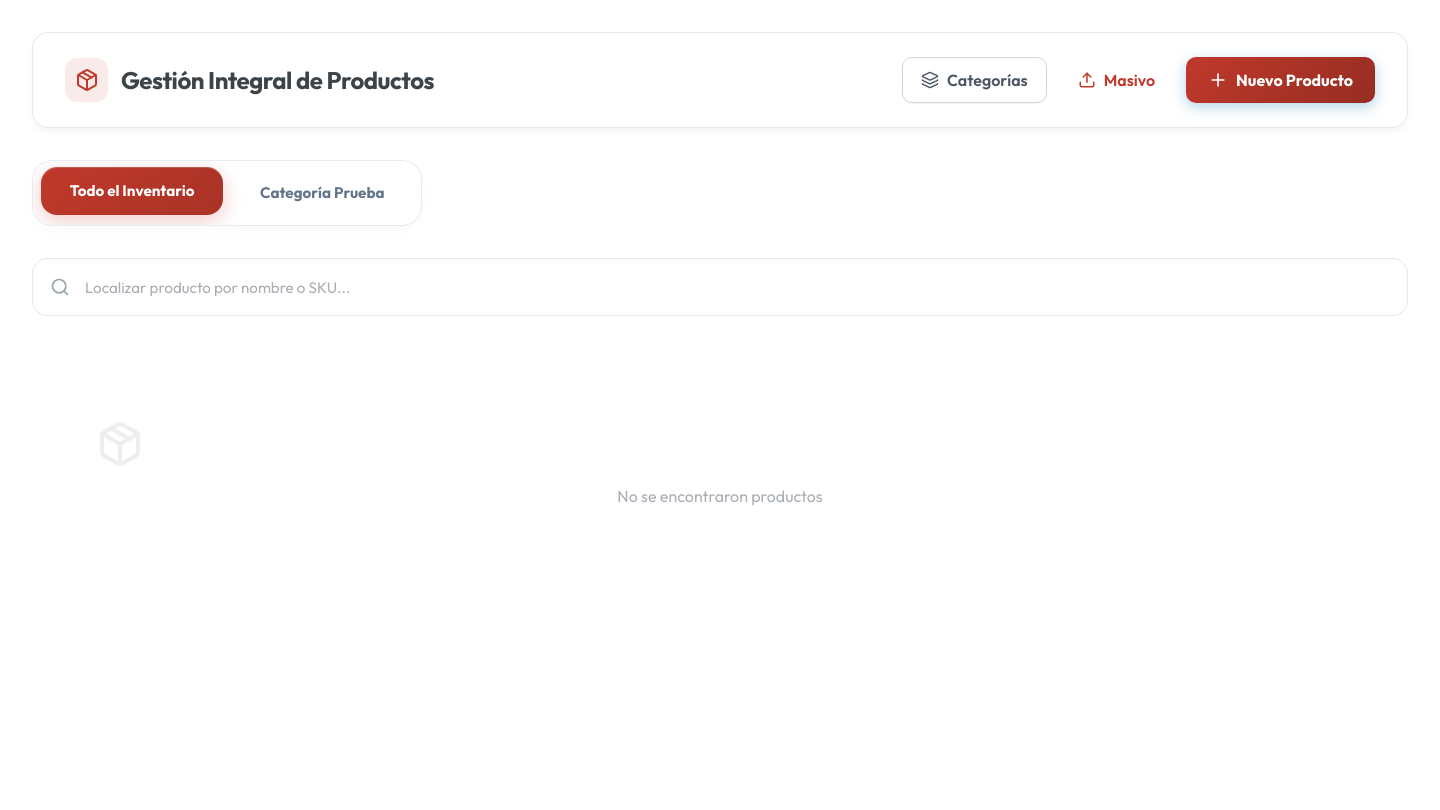
Scenario: Matriz de Casos de Prueba - Módulo Inventario › CP-002: Validar que el Código Interno sea obligatorio
Click the button "Nuevo Producto" at x=1280, y=80, box left=1186, top=57, right=1375, bottom=103
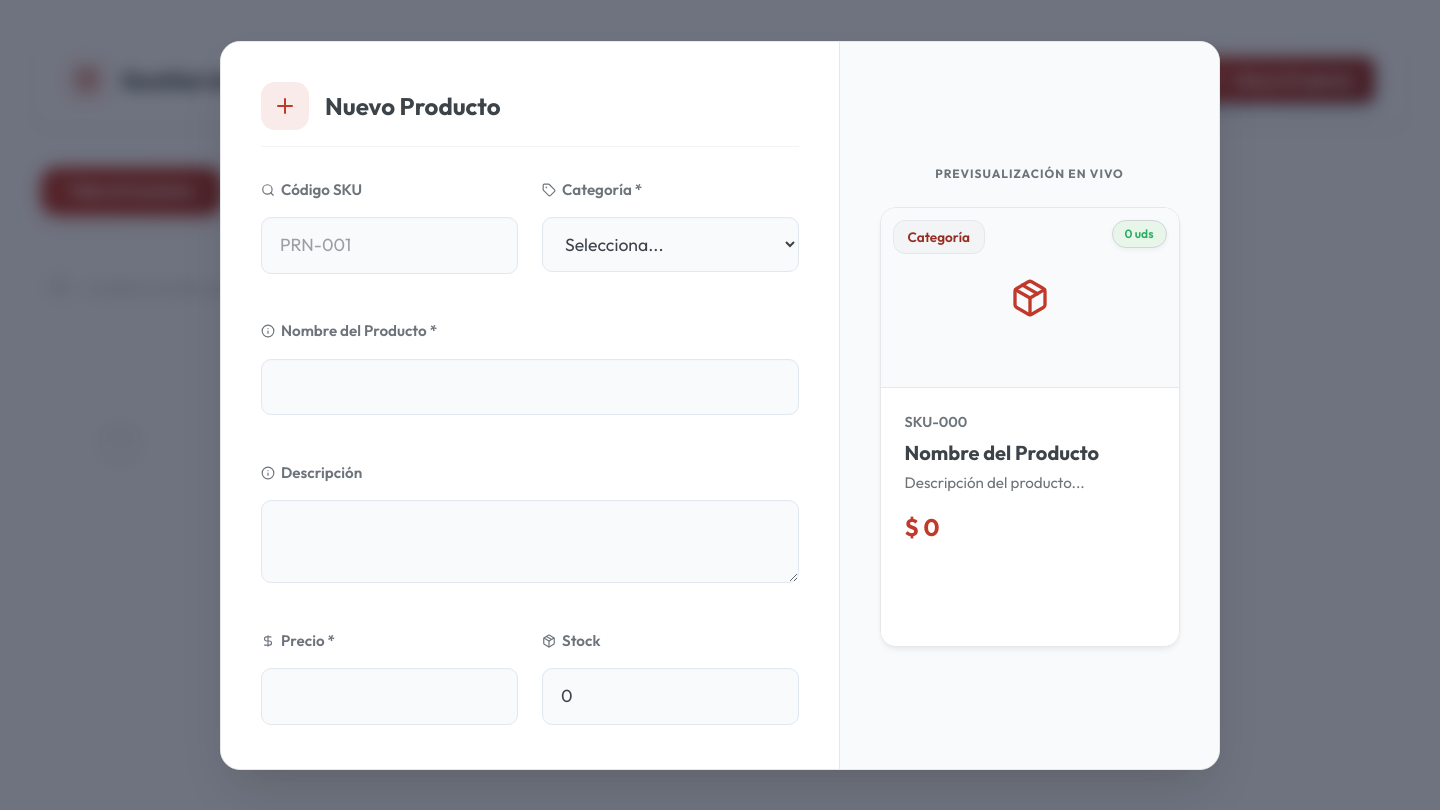
Select "Categoría Prueba" in the dropdown named "id_categoria" at x=670, y=245, box left=542, top=217, right=799, bottom=272
Type "Producto Válido" into the field named "nombre_producto" at x=530, y=387, box left=261, top=359, right=799, bottom=415
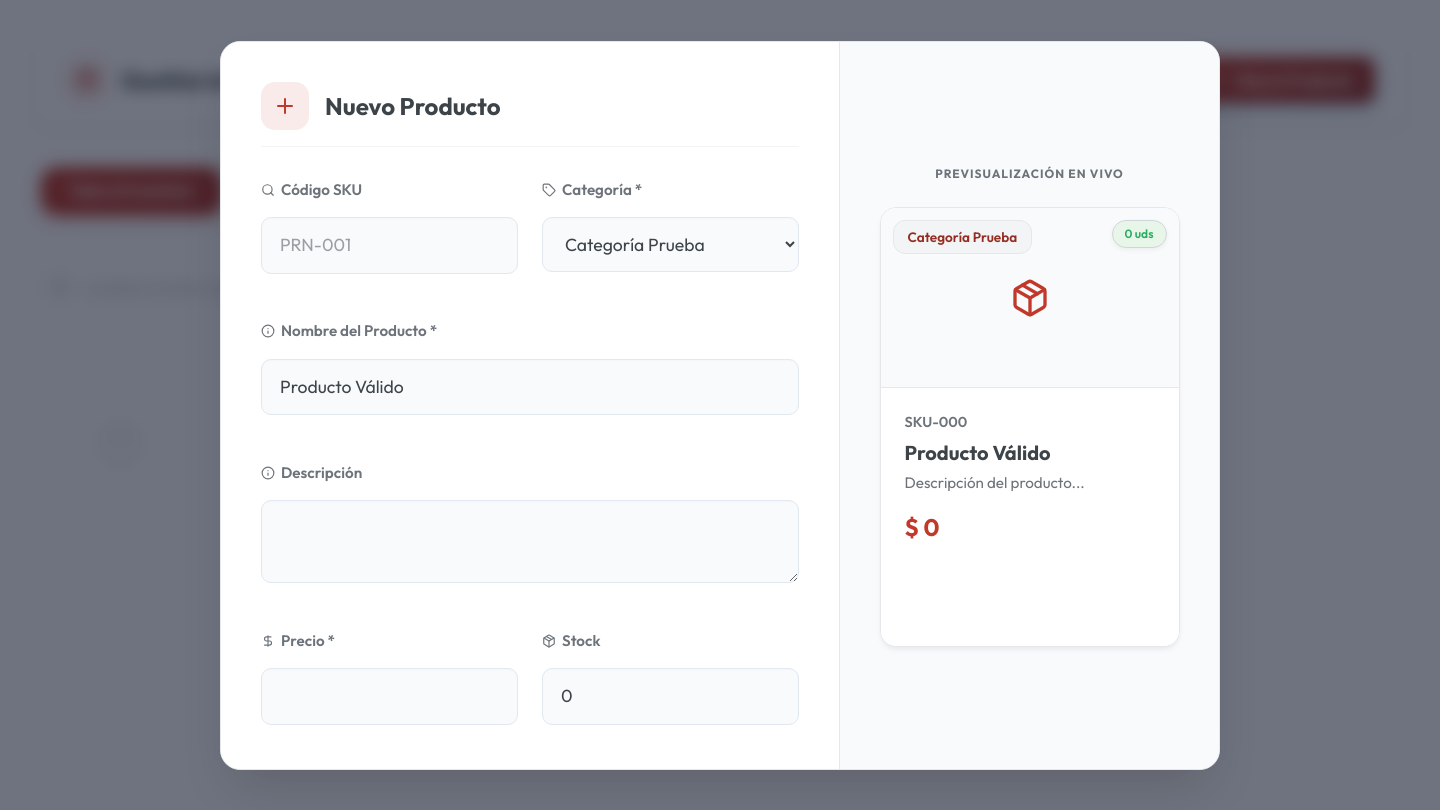
Type "Descripción válida" into the text box named "descripcion" at x=530, y=542, box left=261, top=500, right=799, bottom=583
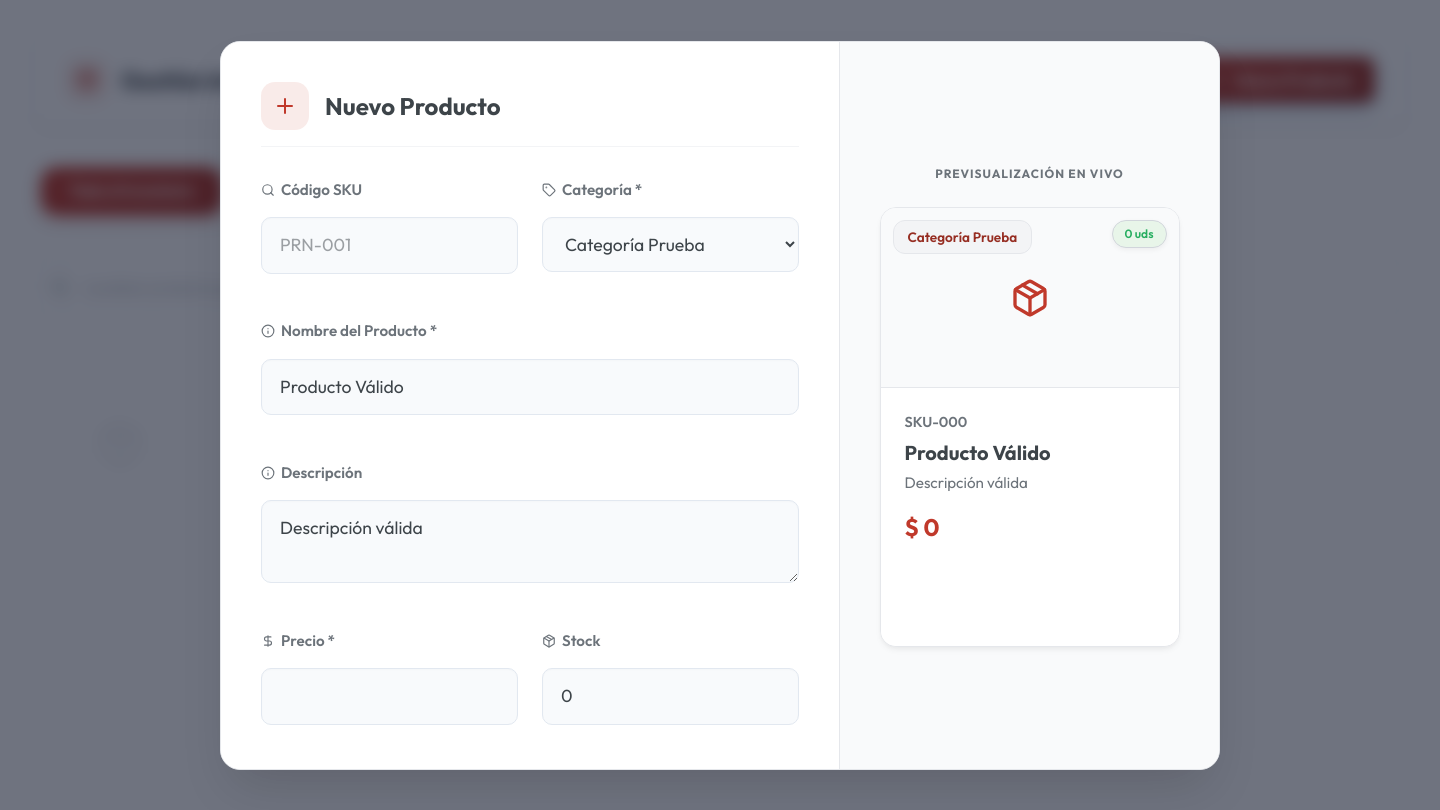
Type "1000" into the number field named "precio" below "Precio *" at x=390, y=697, box left=261, top=668, right=518, bottom=725
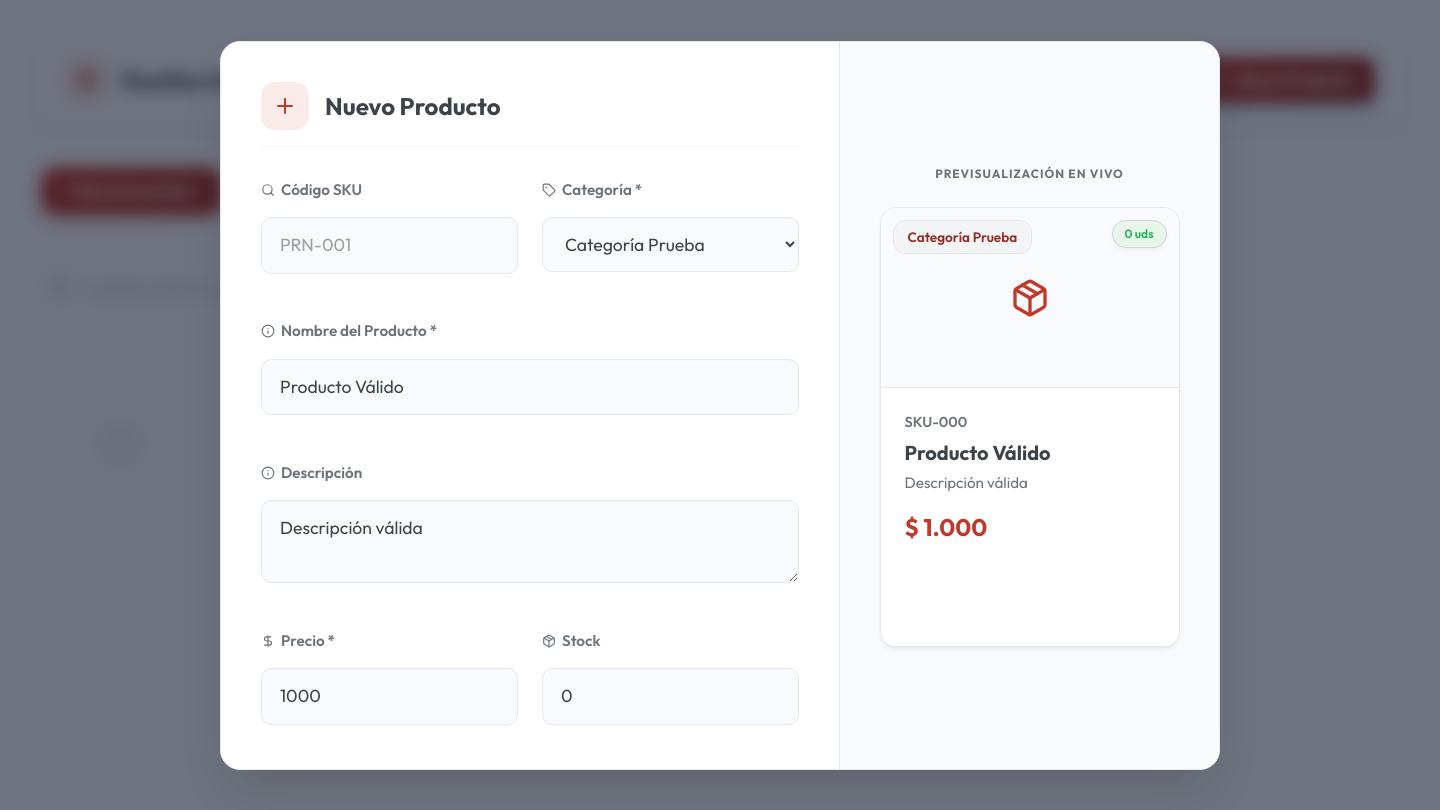
Replace the text in the number field named "stock" below "Stock" with "5" at x=670, y=697, box left=542, top=668, right=799, bottom=725
(page scrolled)
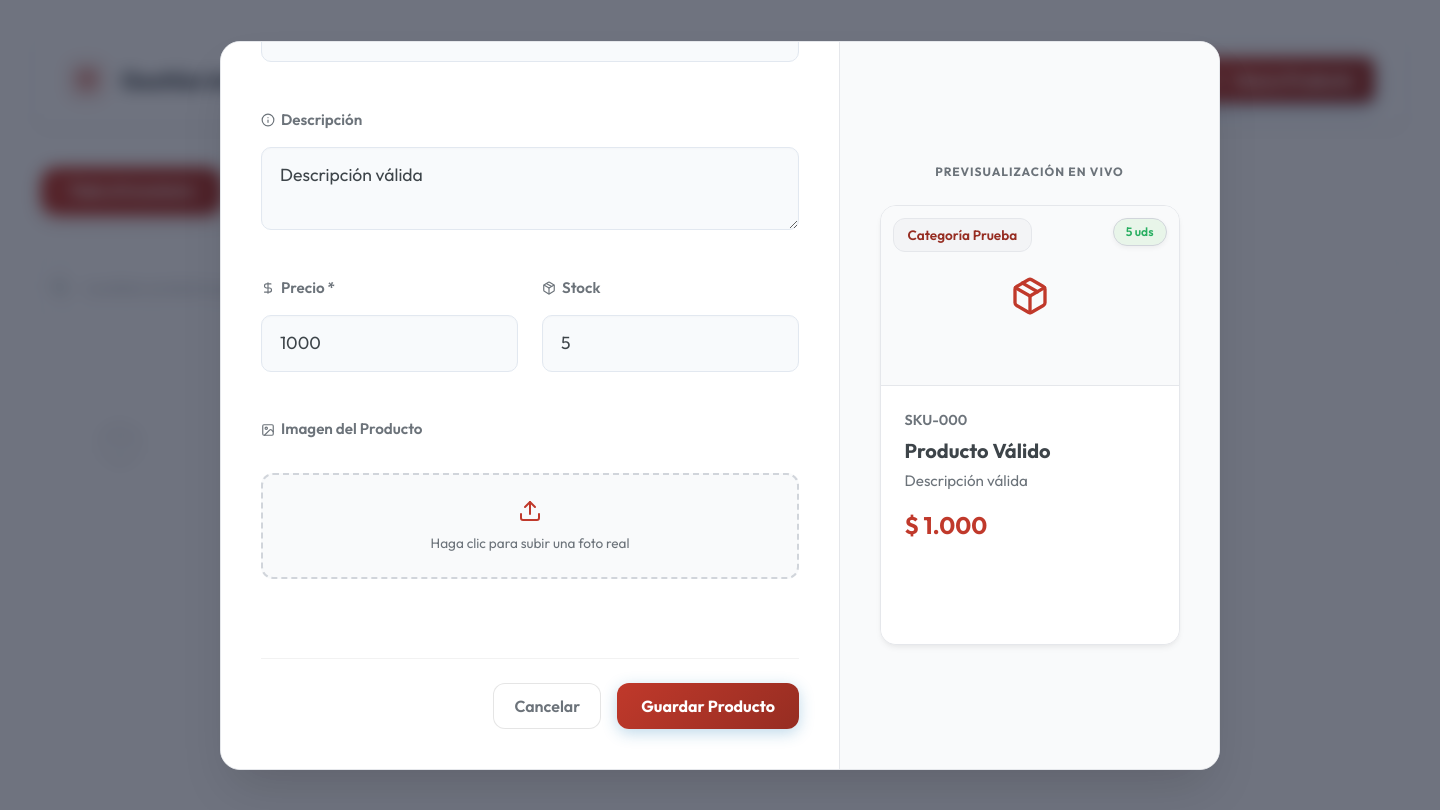
Click the button "Guardar Producto" at x=708, y=706, box left=617, top=683, right=799, bottom=729
(page scrolled)
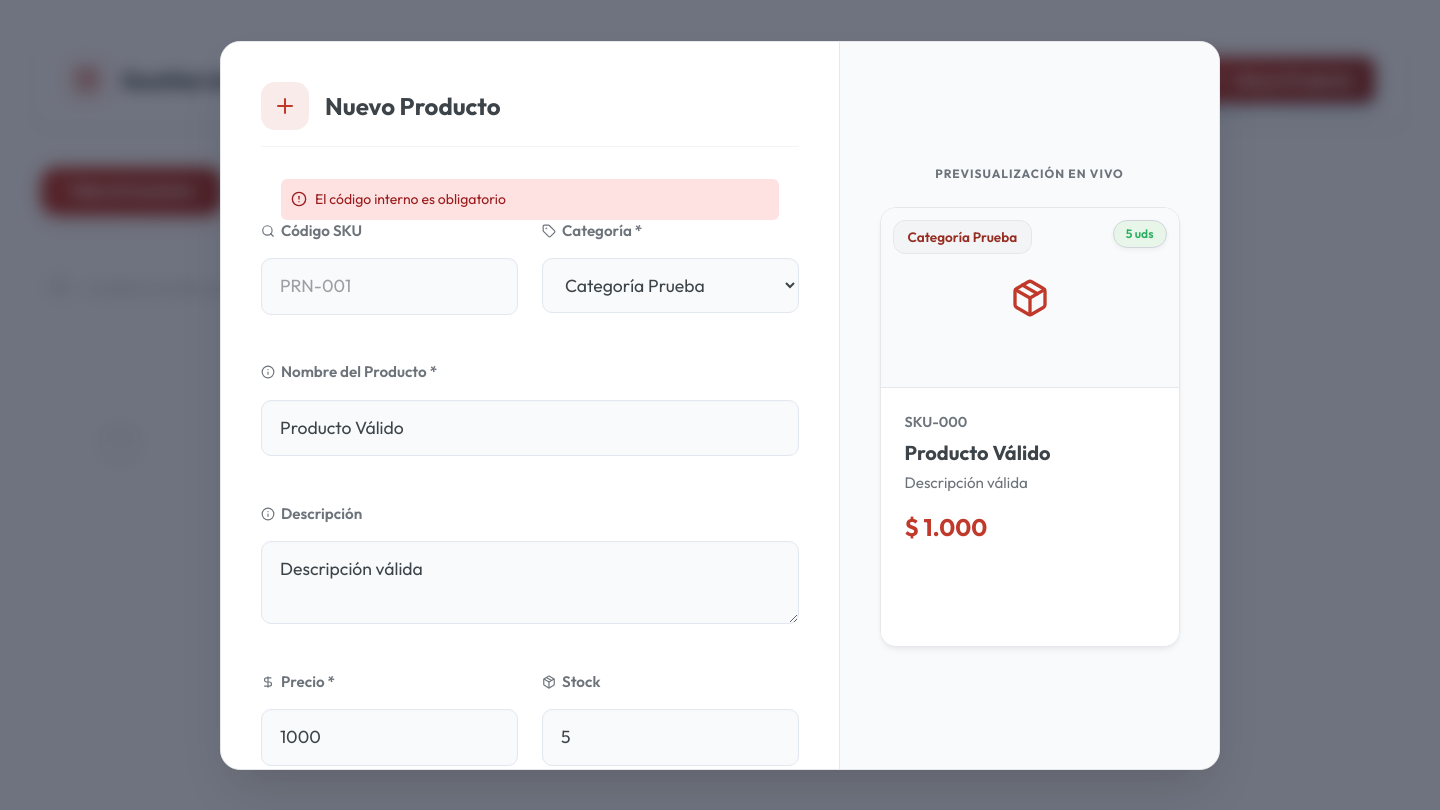
expect the text "El código interno es obligatorio" is shown: met, box left=281, top=178, right=779, bottom=220
